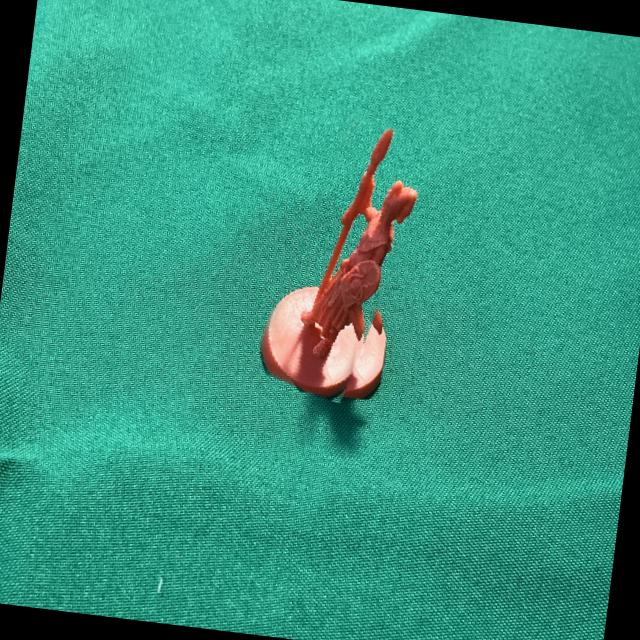amon_follower: (261, 128, 417, 398)
